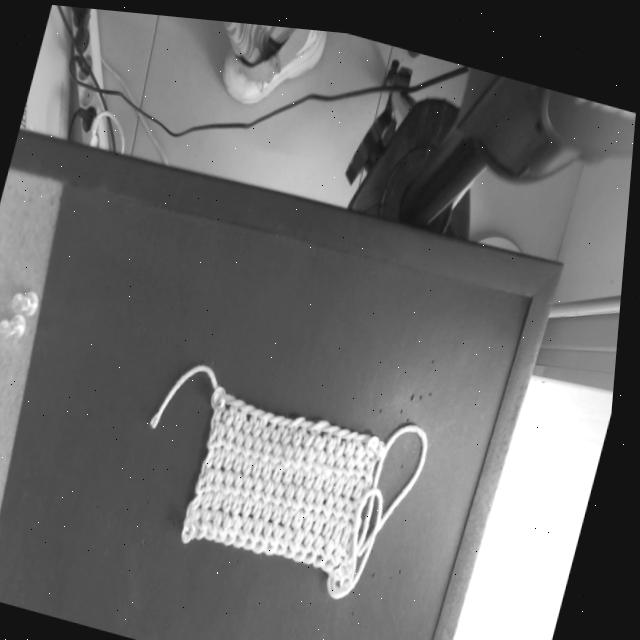ch: (317, 413, 335, 422), (295, 410, 311, 420), (264, 406, 280, 415), (282, 410, 298, 419), (358, 426, 376, 434), (327, 417, 347, 424), (233, 394, 252, 401), (339, 420, 358, 427), (257, 402, 271, 411), (276, 409, 290, 417), (247, 398, 262, 405), (305, 414, 320, 420), (350, 425, 365, 430)
hdc: (301, 522, 321, 557), (251, 510, 271, 544), (230, 510, 250, 541), (240, 511, 260, 542), (320, 531, 342, 559), (311, 528, 332, 557), (329, 537, 349, 567), (292, 522, 312, 551), (262, 516, 280, 546), (214, 505, 231, 535), (274, 519, 291, 548), (284, 520, 301, 549), (329, 505, 343, 539), (223, 509, 240, 537), (288, 475, 302, 508), (358, 469, 371, 504), (276, 476, 291, 506), (267, 472, 281, 504), (203, 504, 218, 533), (299, 478, 313, 509), (319, 424, 334, 452), (319, 481, 331, 516), (348, 514, 360, 549), (298, 501, 312, 530), (288, 499, 302, 528), (248, 490, 261, 521), (207, 485, 221, 513), (239, 489, 251, 521), (239, 405, 252, 434), (309, 440, 322, 469), (329, 485, 341, 516), (339, 468, 352, 496), (288, 437, 300, 467), (258, 470, 270, 500), (339, 512, 351, 542), (287, 420, 300, 447), (320, 443, 333, 470), (309, 421, 321, 450), (310, 462, 322, 491), (320, 507, 332, 536), (228, 464, 241, 490), (350, 449, 362, 477), (238, 467, 249, 497), (350, 490, 361, 520), (319, 466, 332, 491), (248, 470, 260, 497), (278, 435, 289, 464), (340, 489, 351, 518), (229, 488, 240, 517), (298, 440, 310, 466), (219, 487, 231, 513), (371, 452, 381, 483), (311, 481, 321, 512), (249, 427, 260, 455), (340, 448, 351, 476), (230, 445, 241, 473), (220, 442, 231, 470), (257, 413, 269, 438), (229, 402, 241, 427), (197, 489, 209, 514), (257, 431, 268, 458), (267, 434, 278, 461), (268, 456, 279, 483), (310, 504, 321, 531), (332, 423, 342, 452), (351, 469, 361, 498), (350, 434, 362, 458), (298, 421, 309, 447), (212, 440, 222, 468), (260, 494, 270, 522), (220, 417, 231, 442), (360, 452, 371, 477), (331, 466, 342, 491), (290, 459, 301, 484), (258, 454, 269, 479), (279, 499, 290, 524), (331, 446, 341, 473), (204, 460, 213, 490), (229, 421, 241, 443), (267, 416, 277, 442), (277, 419, 287, 445), (249, 451, 259, 477), (300, 461, 311, 484), (269, 497, 280, 520), (280, 456, 289, 484), (239, 428, 251, 448), (361, 435, 371, 459), (221, 463, 231, 487), (249, 410, 259, 432), (212, 463, 221, 487), (241, 449, 249, 475)
